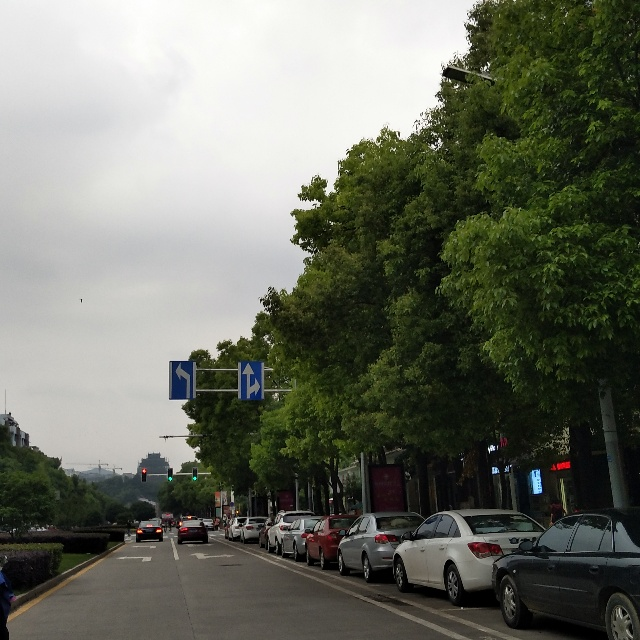left: (168, 360, 196, 401)
